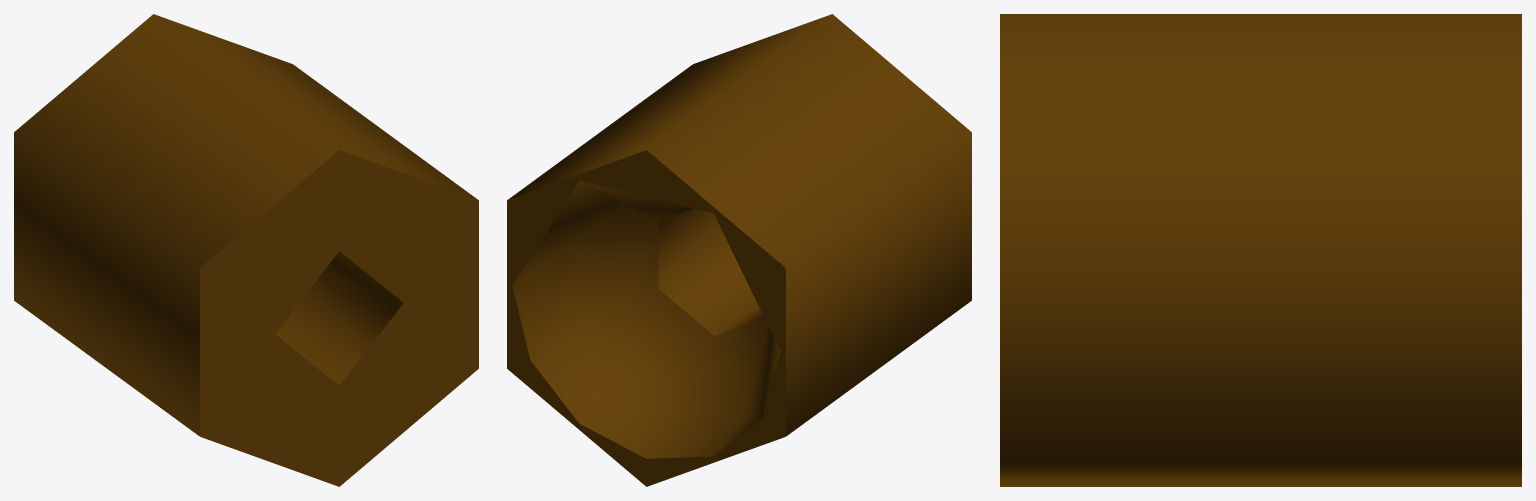
The model's file is Pallier roue de temps Heures_instance_1.obj.
The picture shows the model from 3 angles, left to right: view 1: azimuth 30°, elevation 25°; view 2: azimuth 150°, elevation 25°; view 3: azimuth 270°, elevation 25°; orthographic projection. The views are drawn at different scales.
Visible parts, largest first — view 1: Face_4, Face_1, Face_5; view 2: Face_4, Face_2, Face_3, Face_5; view 3: Face_4.
Boxes of the visible parts, <box> form: Face_4: <box>14,14,477,436</box>; Face_1: <box>200,150,478,486</box>; Face_5: <box>275,251,403,385</box>; Face_4: <box>508,14,971,436</box>; Face_2: <box>512,180,780,458</box>; Face_3: <box>507,150,785,486</box>; Face_5: <box>658,208,764,335</box>; Face_4: <box>1000,14,1521,486</box>.
Bounding box in the file's own units: 0.0052 × 0.006 × 0.006.
